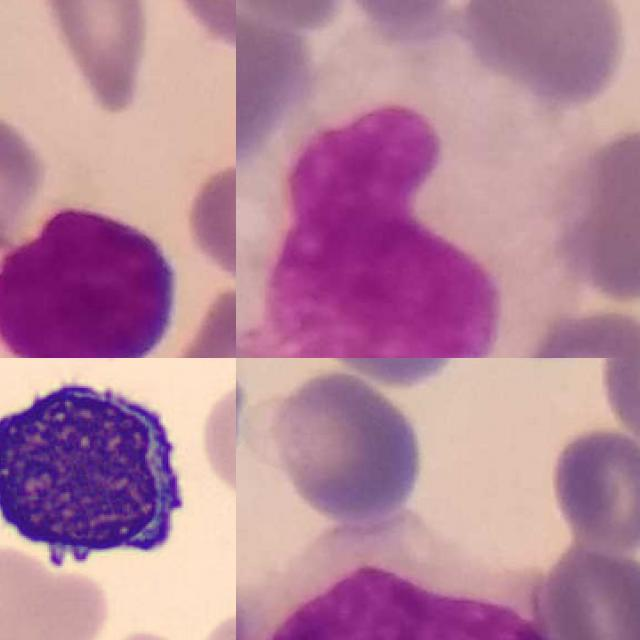Lymphocyte: (0, 363, 194, 574), (0, 202, 178, 358)
Monocyte: (239, 93, 510, 358), (236, 508, 565, 640)
RBC: (0, 543, 114, 640), (194, 368, 236, 511)
